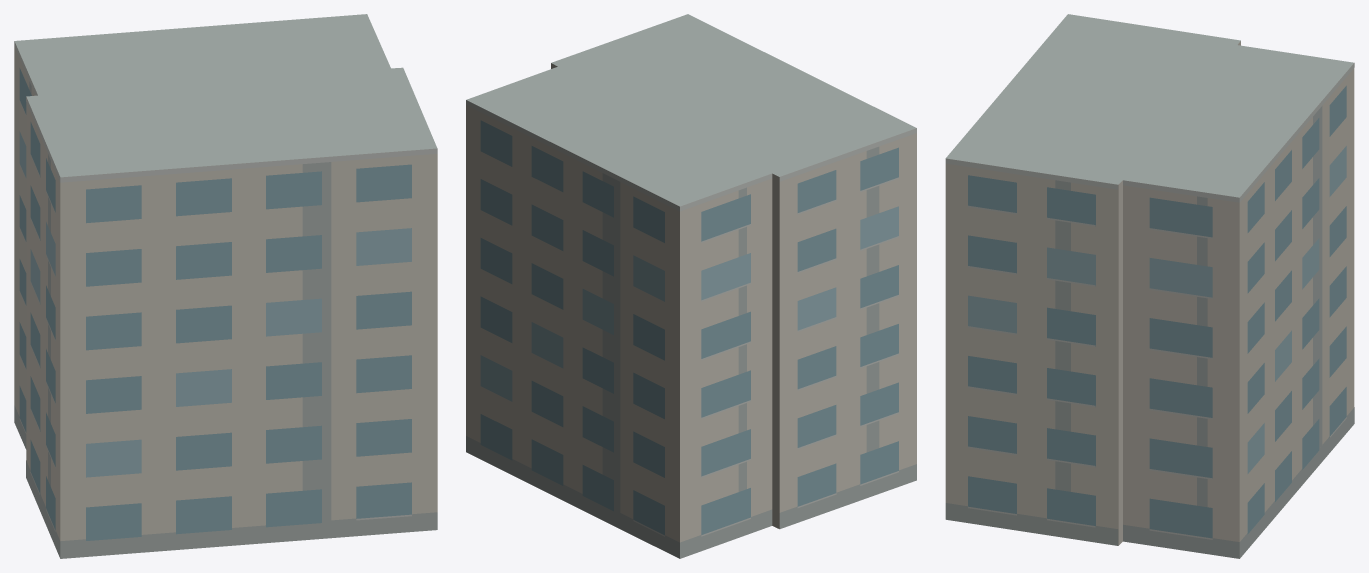
File: survey-upis-32842147.glb
3 renders of one model, left to right at view 1: azimuth 30°, elevation 25°; view 2: azimuth 150°, elevation 25°; view 3: azimuth 270°, elevation 25°, orthographic. The views are drawn at different scales.
Parts seen in each view (by area): view 1: survey-upis-32842147.tmp; view 2: survey-upis-32842147.tmp; view 3: survey-upis-32842147.tmp.
Boxes of the visible parts, x1,y1,x2,y2 form: survey-upis-32842147.tmp: (14,14,437,558); survey-upis-32842147.tmp: (466,14,916,558); survey-upis-32842147.tmp: (945,14,1354,558).
Size of the model in its own units: 18.87 by 17.3 by 17.75.
